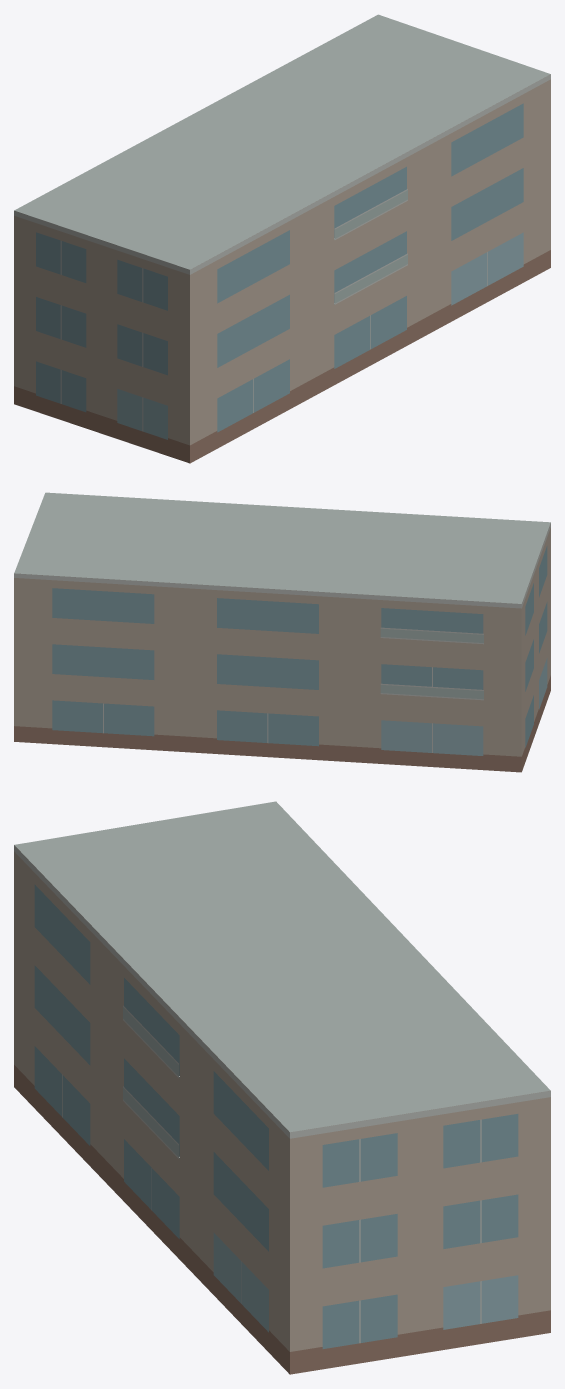
Rendered from survey-upis-32731633.glb.
3 renders of one model, top to bottom at view 1: azimuth 30°, elevation 25°; view 2: azimuth 150°, elevation 25°; view 3: azimuth 270°, elevation 25°, orthographic. The views are drawn at different scales.
Parts seen in each view (by area): view 1: survey-upis-32731633.tmp; view 2: survey-upis-32731633.tmp; view 3: survey-upis-32731633.tmp.
Part boxes in pixels (box(x1,y1,x2,y2)): survey-upis-32731633.tmp: box(14, 14, 550, 463); survey-upis-32731633.tmp: box(14, 492, 550, 772); survey-upis-32731633.tmp: box(14, 801, 550, 1374).
Size of the model in its own units: 26.83 by 9.15 by 18.39.
